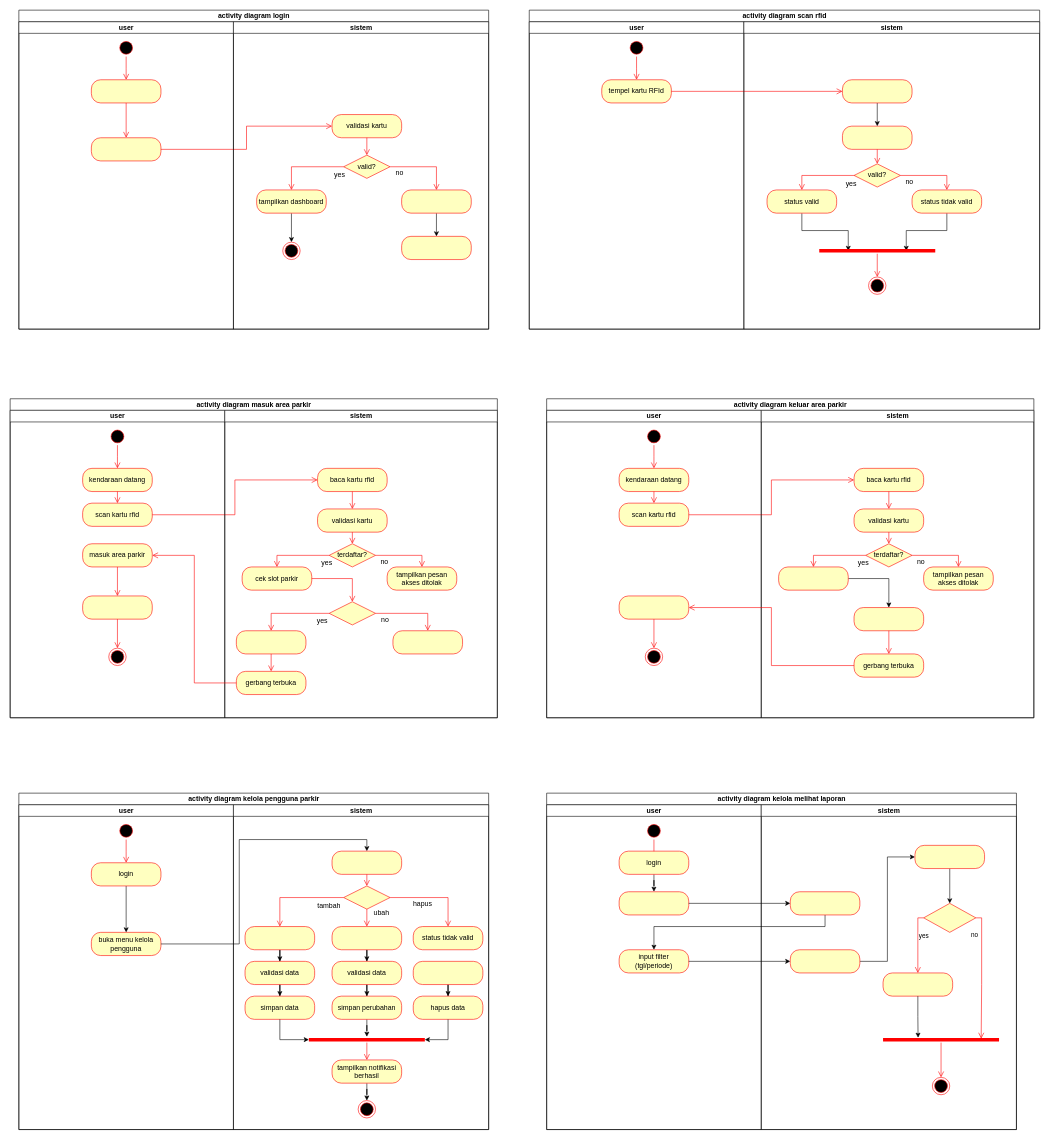
This 1050x1140 diagram has some shape labels left out. The shapes that lost their labels are listed below. From the top down, each one's centre as x and y in pixels, then its label:
the point at 126,91: buka halaman login
the point at 877,91: cek id RFID
the point at 126,149: input username & pass
the point at 877,137: cek ke database
the point at 436,201: tampilkan pesan error
the point at 436,248: kembali ke form login
the point at 813,578: hitung durasi & biaya parkir
the point at 117,607: parkir kendaraan
the point at 352,613: tersedia?
the point at 654,607: keluar area parkir
the point at 888,619: cetak waktu keluar
the point at 271,642: cetak waktu masuk
the point at 427,642: tampilkan pesan slot parkir penuh
the point at 366,862: menampilkan daftar pengguna
the point at 949,857: tampilkan laporan
the point at 366,897: pilih aksi
the point at 654,903: buka menu laporan
the point at 825,903: menampilkan jenis laporan
the point at 949,917: cetak/unduh
the point at 279,938: input data pengguna
the point at 366,938: pilih pengguna input data baru
the point at 448,973: konfirmasi hapus
the point at 825,961: ambil data transaksi
the point at 917,984: cetak/unduh laporan
